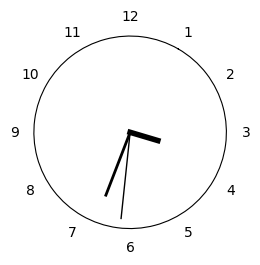12: (122, 9, 138, 22)
circle: (33, 36, 227, 229)
hours: (129, 130, 161, 143)
minutes: (105, 135, 128, 197)
seconds: (120, 138, 130, 218)
